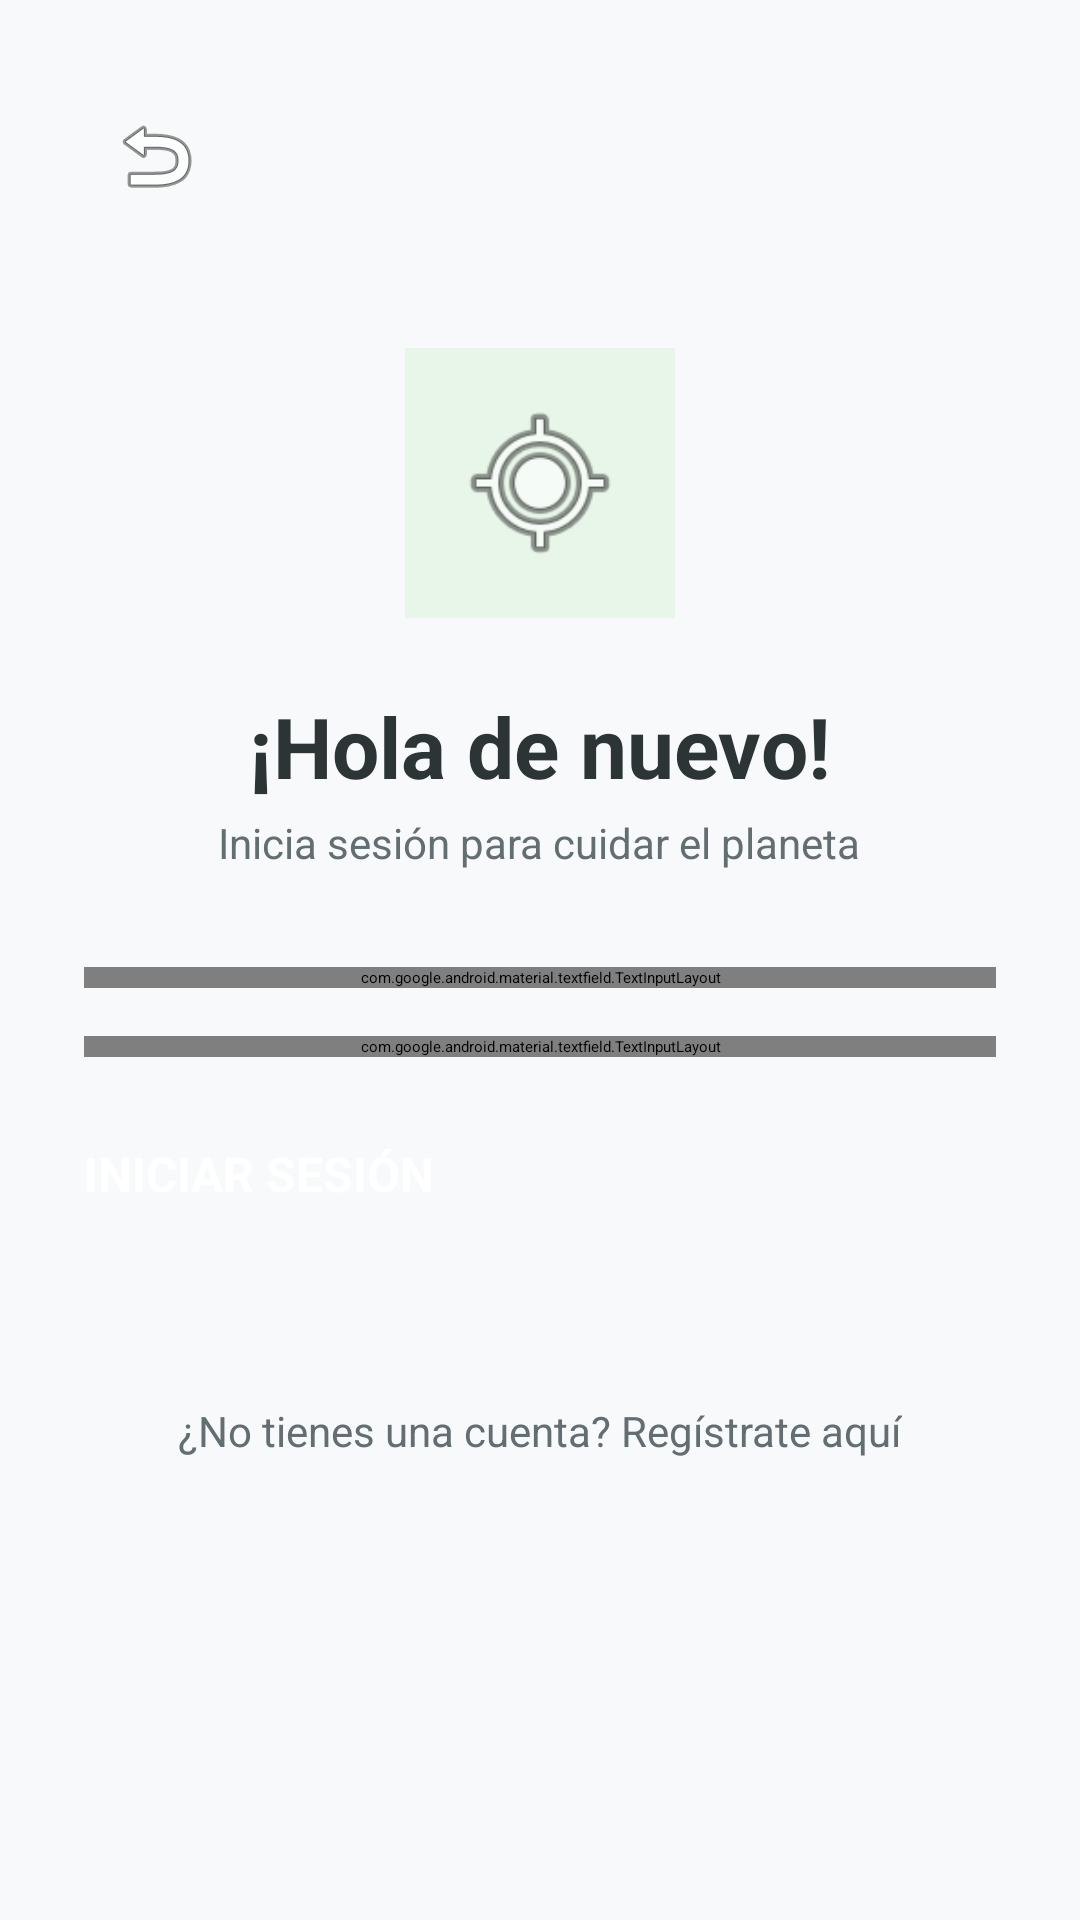

Named icons in this screenshot (1080x1920) and their centers, point (x, y):
Atrás: point (157, 156)
mylocation: point (540, 483)
